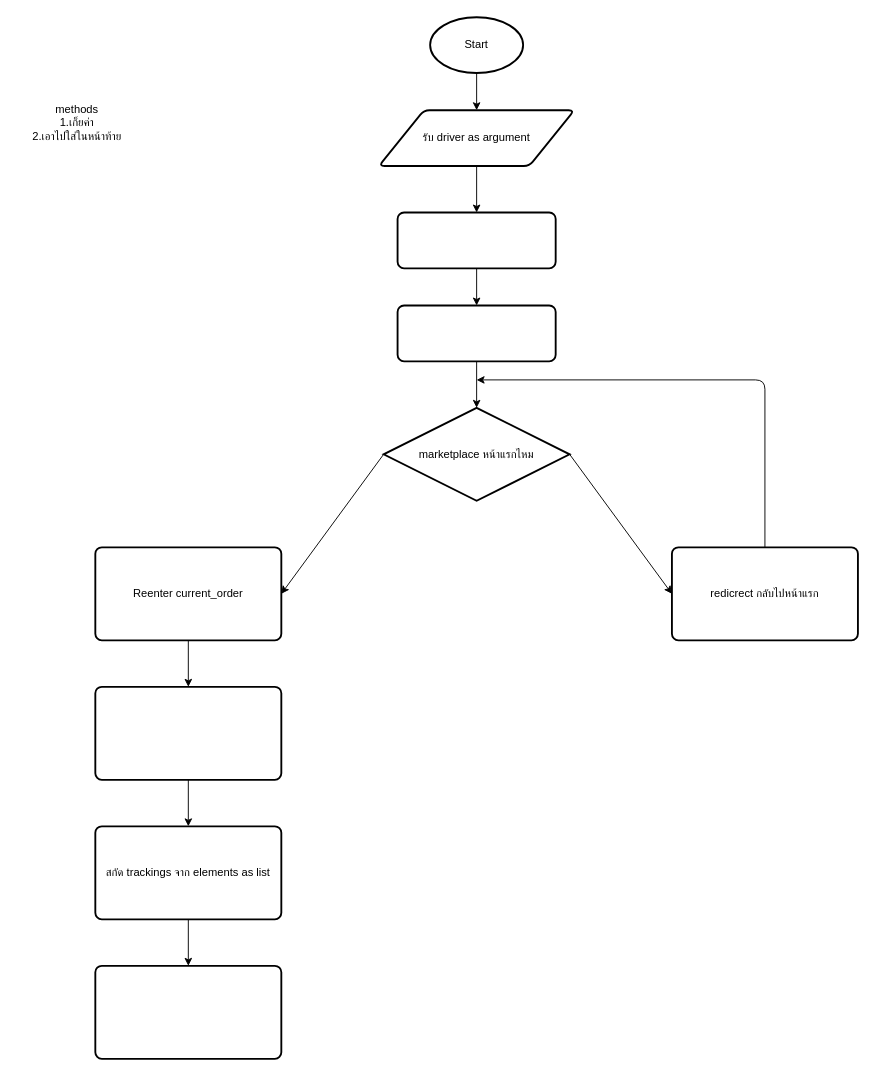
The diagram is 874 pixels wide and 1075 high, and some of its shapes have lost their labels. The centre of each missing label's shape, as x and y in pixels:
"clear ค่า trackings list" goes at (476,240).
"driver สลับ tab ไป marketplace" goes at (476,333).
"เก็บ tracking elements" goes at (188,732).
